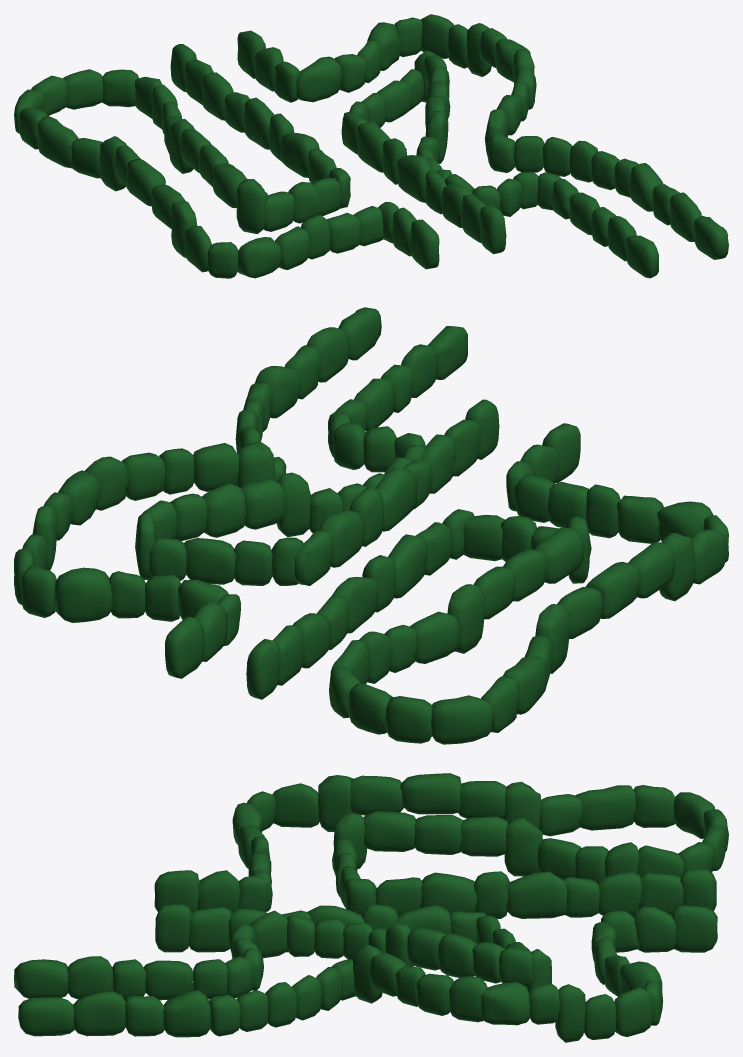
The model's file is Arbustos.fbx.
The picture shows the model from 3 angles, top to bottom: view 1: azimuth 30°, elevation 25°; view 2: azimuth 150°, elevation 25°; view 3: azimuth 270°, elevation 25°; orthographic projection. The views are drawn at different scales.
Visible parts, largest first — view 1: Arbustos; view 2: Arbustos; view 3: Arbustos.
Boxes of the visible parts, bbox=[...] form: Arbustos: bbox=[14, 14, 728, 278]; Arbustos: bbox=[14, 307, 728, 744]; Arbustos: bbox=[14, 773, 728, 1042].
Size of the model in its own units: 17445 by 2268 by 23120.
